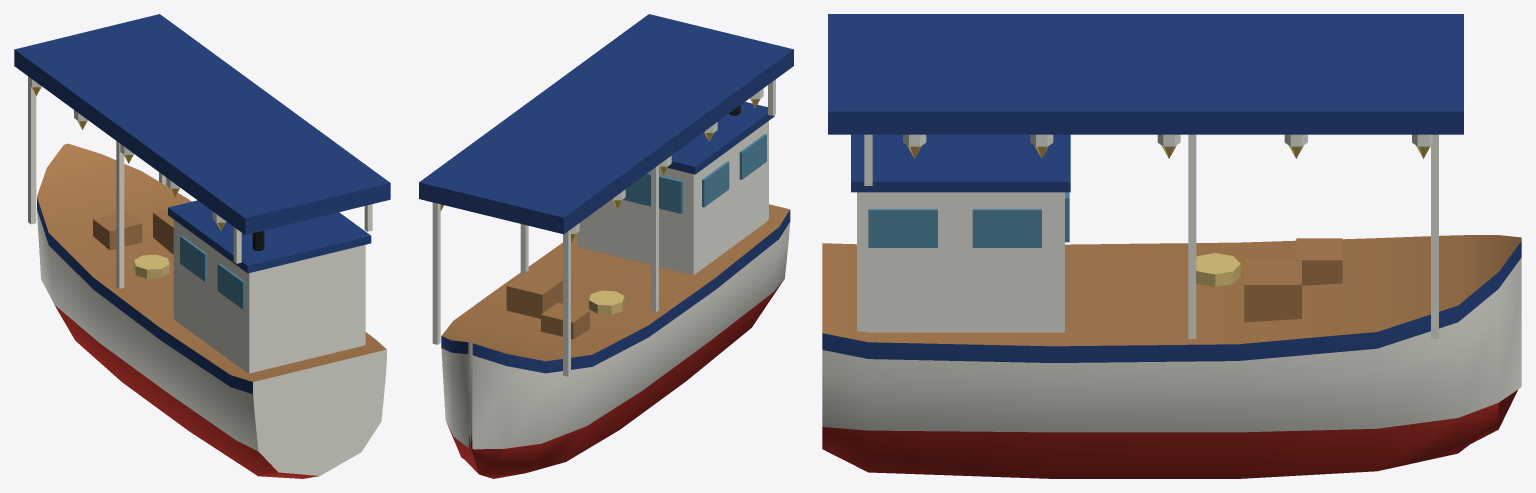
File: FishingBoat.fbx
The picture shows the model from 3 angles, left to right: view 1: azimuth 30°, elevation 25°; view 2: azimuth 150°, elevation 25°; view 3: azimuth 270°, elevation 25°; orthographic projection. The views are drawn at different scales.
Visible parts, largest first — view 1: FishingBoat; view 2: FishingBoat; view 3: FishingBoat.
Boxes of the visible parts, x1,y1,x2,y2 form: FishingBoat: [14, 14, 390, 478]; FishingBoat: [419, 14, 793, 478]; FishingBoat: [822, 14, 1521, 478].
Bounding box in the file's own units: 2.08 × 3.85 × 6.05.
